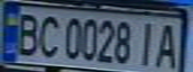0: (60, 14, 84, 62), (78, 15, 100, 62)
2: (97, 16, 118, 64)
8: (112, 17, 136, 66)
A: (151, 20, 181, 70)
B: (9, 9, 45, 57)
C: (33, 12, 63, 59)
I: (133, 19, 160, 69)
